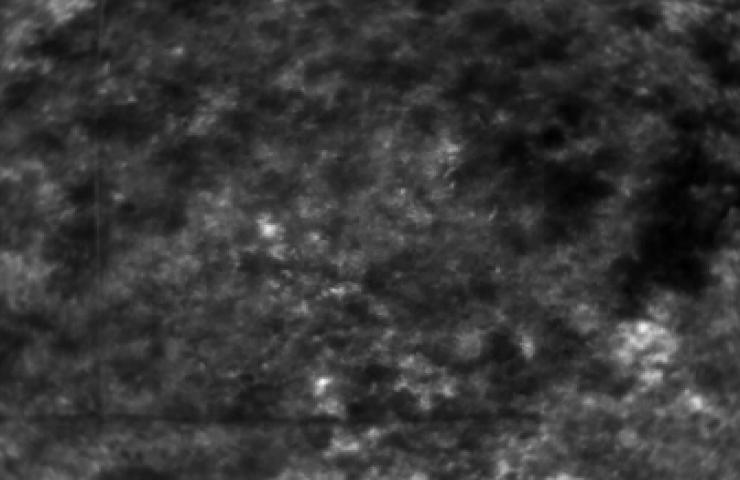landmines: (256, 215, 286, 243)
